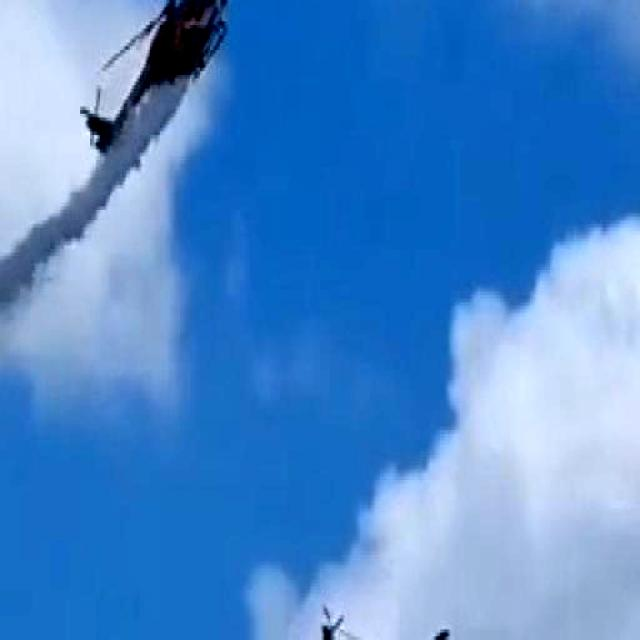drone: (86, 0, 236, 164), (305, 588, 470, 640)
